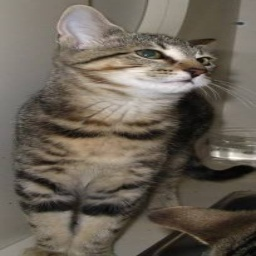cat: (14, 8, 221, 253)
